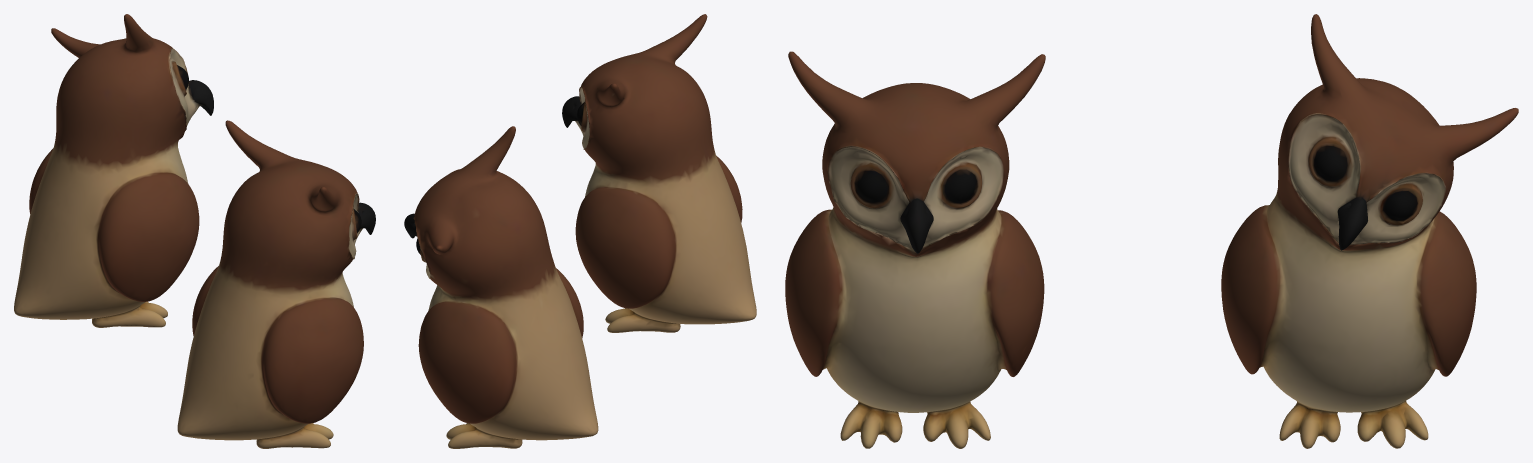
The model's file is night-owl-v1.glb.
The picture shows the model from 3 angles, left to right: view 1: azimuth 30°, elevation 25°; view 2: azimuth 150°, elevation 25°; view 3: azimuth 270°, elevation 25°; orthographic projection. The views are drawn at different scales.
Visible parts, largest first — view 1: tripo-night-owl; view 2: tripo-night-owl; view 3: tripo-night-owl.
Part boxes in pixels (bbox=[...]): tripo-night-owl: bbox=[14, 14, 375, 448]; tripo-night-owl: bbox=[404, 14, 756, 448]; tripo-night-owl: bbox=[785, 14, 1518, 448].
Bounding box in the file's own units: 0.4142 × 0.6199 × 0.9999.
